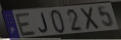0: (50, 9, 66, 35)
2: (66, 9, 84, 33)
5: (96, 5, 116, 30)
E: (14, 12, 38, 38)
J: (38, 12, 50, 34)
X: (79, 7, 101, 32)
